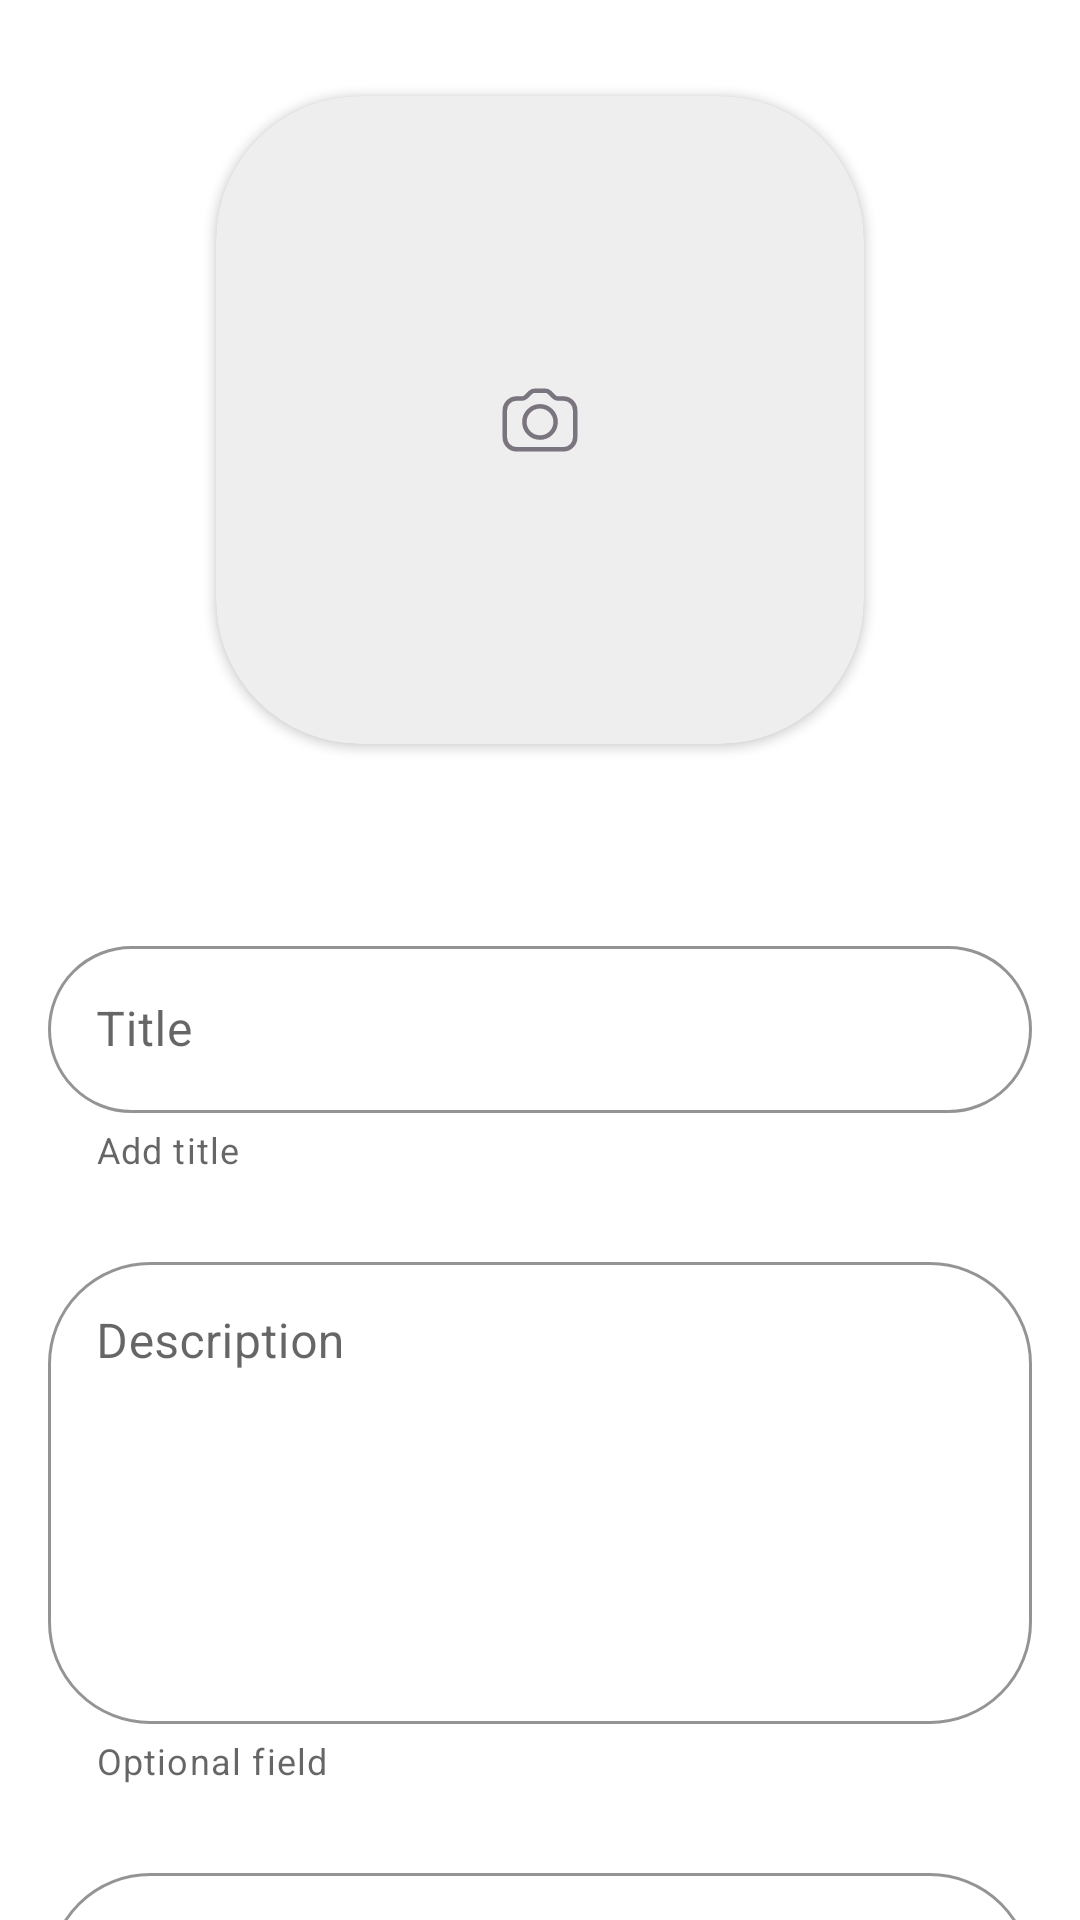

Named icons in this screenshot (1080 × 1920) and their centers, (x,y):
camera: (540,420)
